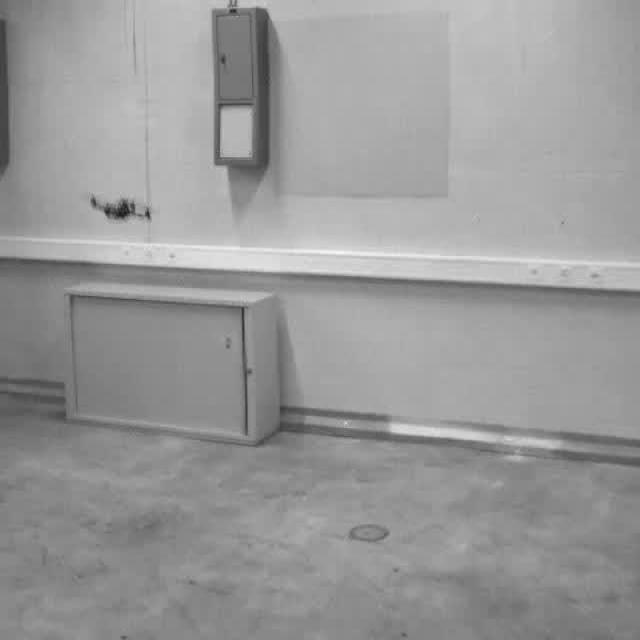drone: (80, 170, 165, 232)
